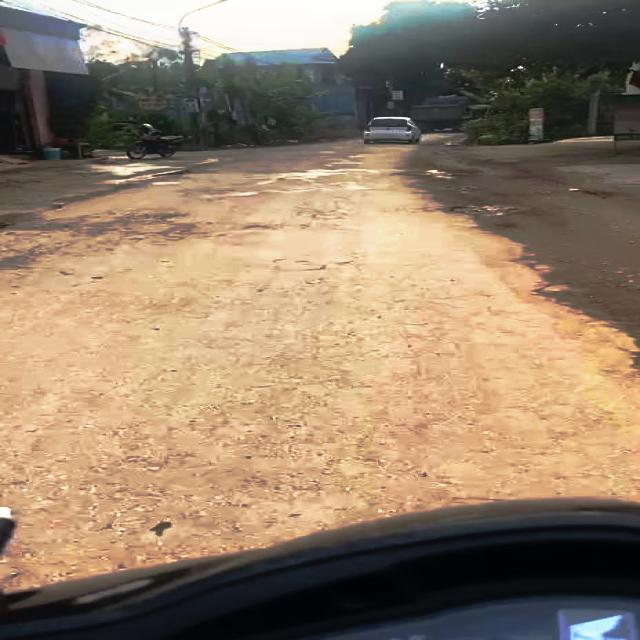pothole: (517, 252, 640, 341), (437, 202, 526, 218), (149, 168, 193, 178), (425, 170, 459, 181)
